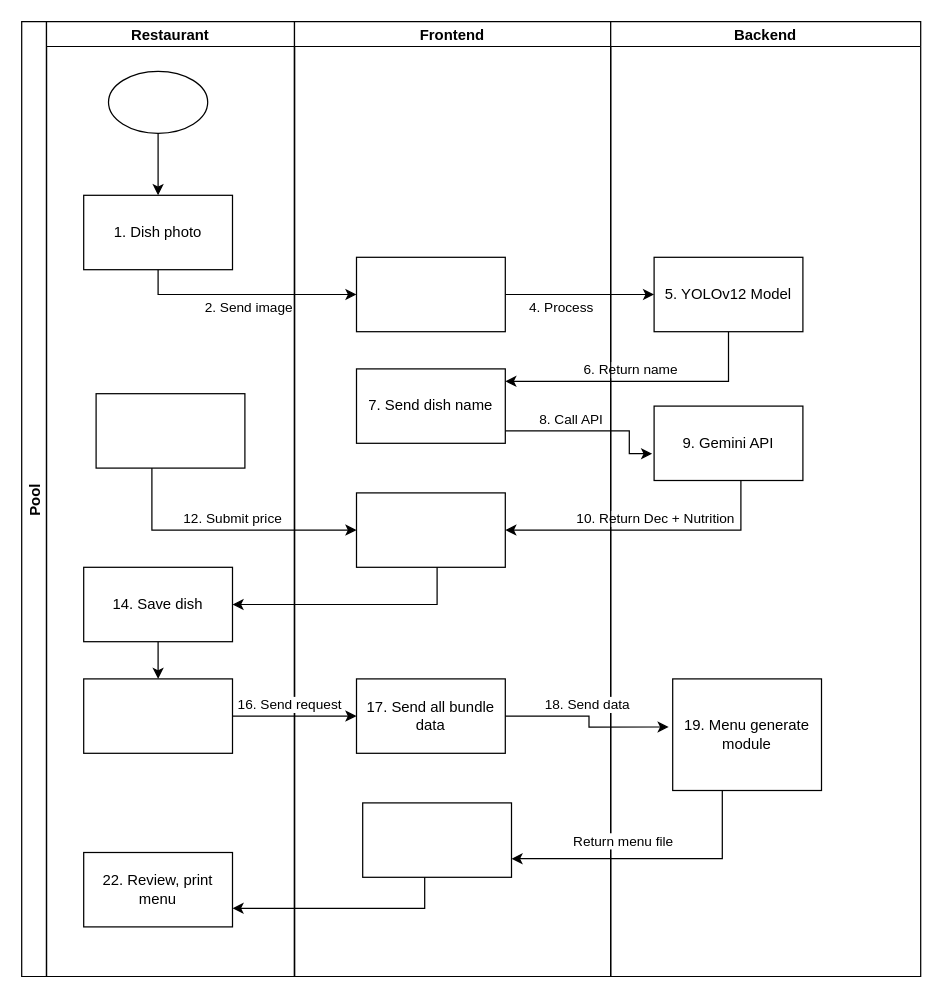
Some shapes in this 942 by 998 pixel diagram are drawn without their labels. The shapes that lost their labels are listed below. From the top down, each one's centre as x and y in pixels, then its label:
(x=157, y=101): Start
(x=430, y=294): 3. Send image to AI model
(x=170, y=430): 11. Input price
(x=430, y=529): 13. Bundle data packet
(x=157, y=715): 15. Click "Generate Menu"
(x=436, y=839): 21. Display menu
